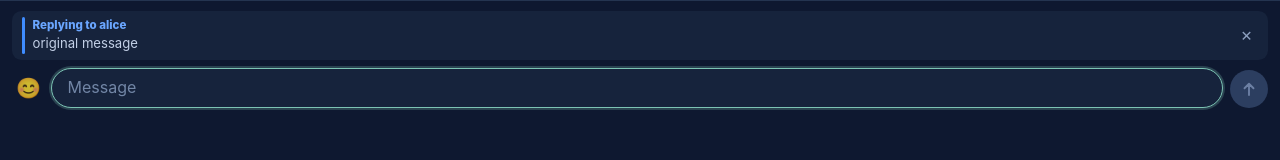
Test: MessageCreation › shows a reply banner via the imperative handle and encodes the reply on send
Expected: the text "Replying to alice" is shown, [33,18,126,32]
Expected: the text "original message" is shown, [33,35,138,51]
Type "my reply" into the text box at (637, 88), box [51,68,1223,108]
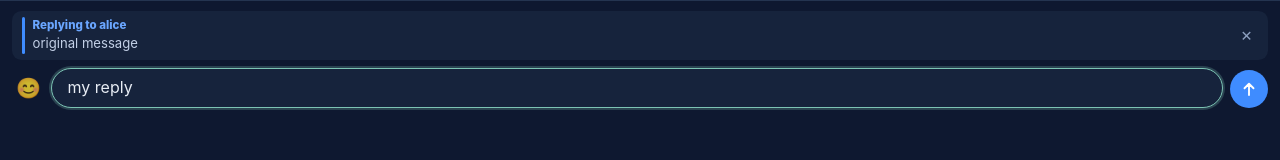
Submit the form with test id "message-creation-form"
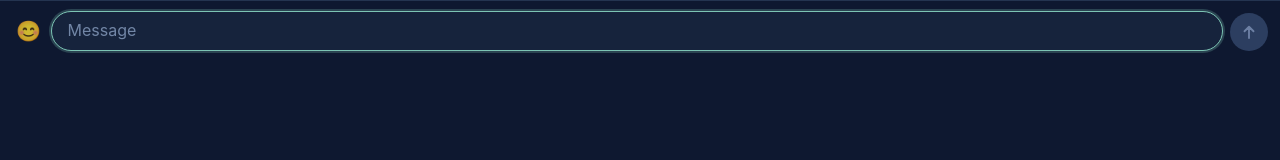
Expected: the text "Replying to alice" is gone
